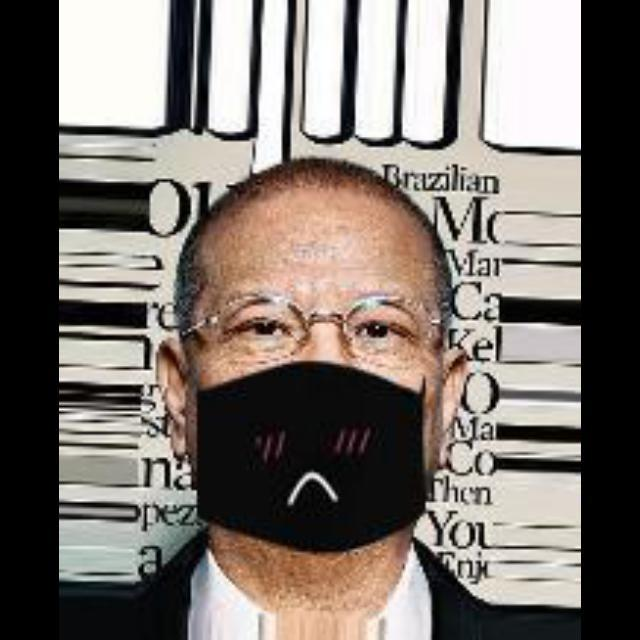suspicion: (185, 173, 478, 542)
